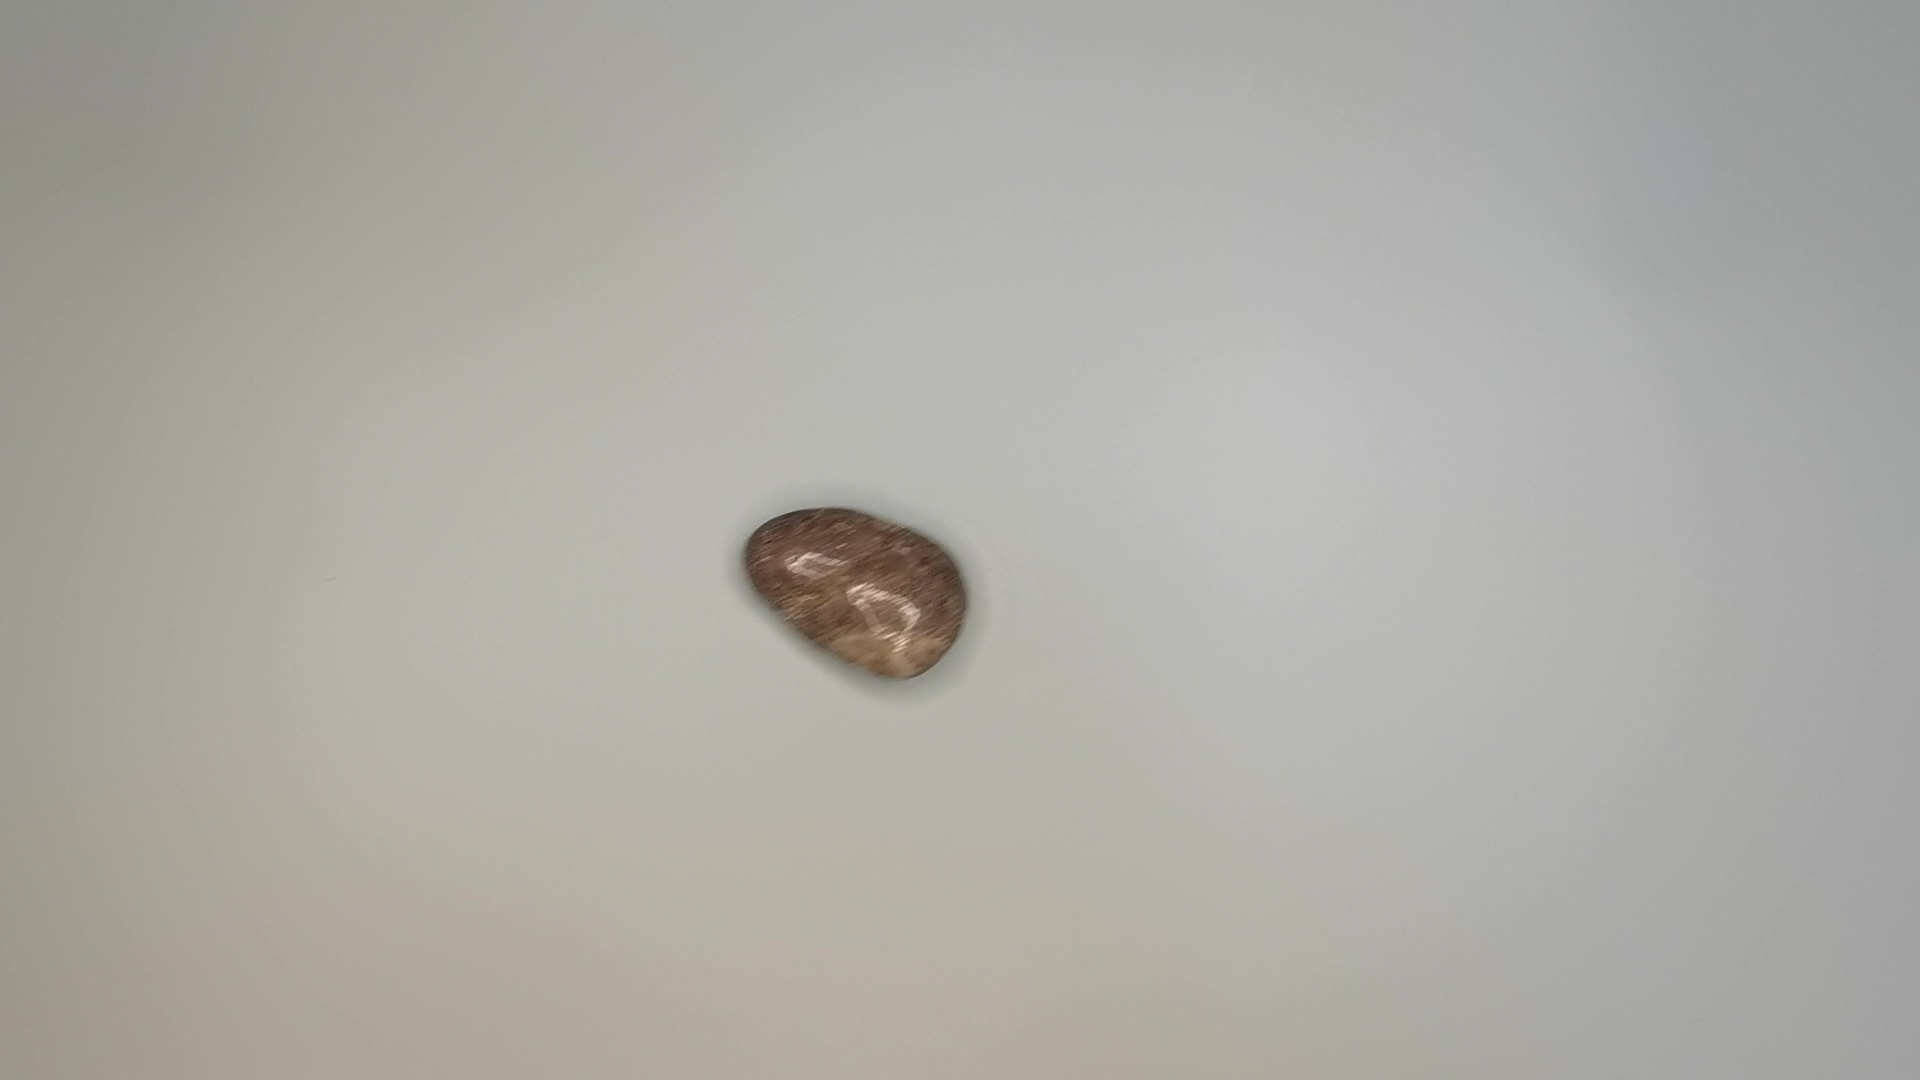ceramic: (740, 498, 975, 684)
